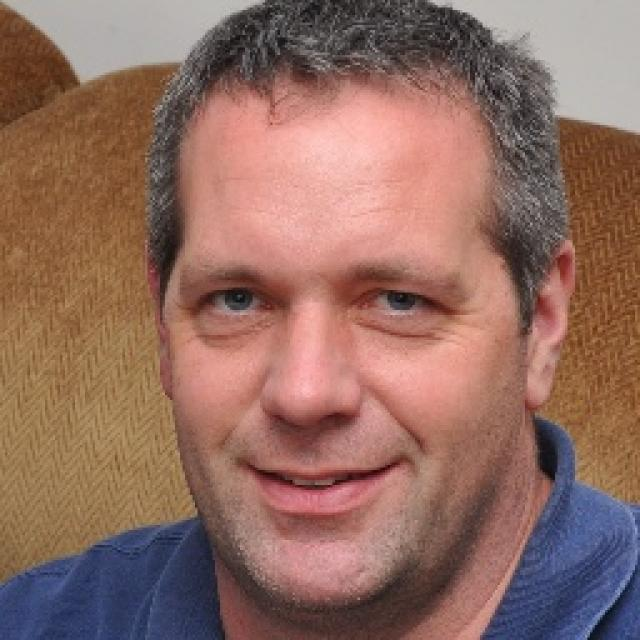earlobe: (522, 236, 576, 408), (144, 254, 175, 406)
